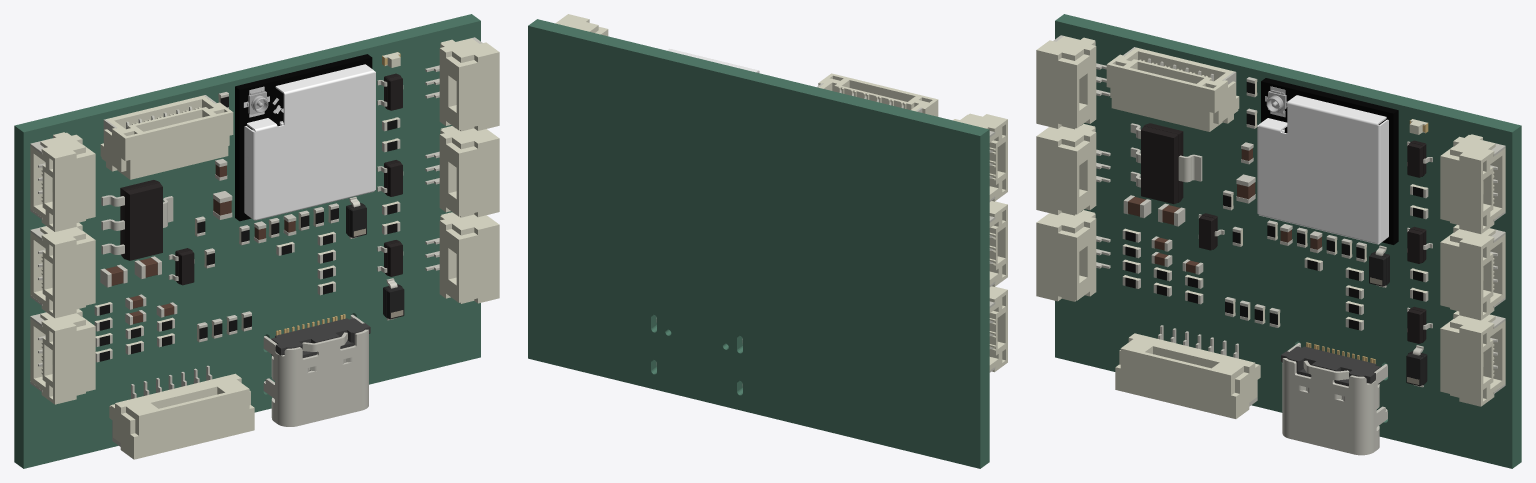
The model's file is board.glb.
3 renders of one model, left to right at view 1: azimuth 30°, elevation 25°; view 2: azimuth 150°, elevation 25°; view 3: azimuth 330°, elevation 25°, orthographic.
Parts seen in each view (by area): view 1: =>[0:1:1:26], =>[0:1:1:19]_97f24e, =>[0:1:1:23]_edfd2b, =>[0:1:1:25]_3423bf, =>[0:1:1:13]_ab31ca, =>[0:1:1:11]_2_cc42f6, =>[0:1:1:11]_3_db4419, =>[0:1:1:11]_1_5a37d0, =>[0:1:1:11]_5_8ec33b, =>[0:1:1:11]_4_f3a107, =>[0:1:1:11]_0b8cfb, =>[0:1:1:19]_99d192 (+10 smaller); view 2: =>[0:1:1:26], =>[0:1:1:25]_3423bf, =>[0:1:1:11]_2_cc42f6, =>[0:1:1:11]_5_8ec33b, =>[0:1:1:11]_1_5a37d0, =>[0:1:1:11]_3_db4419; view 3: =>[0:1:1:26], =>[0:1:1:19]_97f24e, =>[0:1:1:23]_edfd2b, =>[0:1:1:25]_3423bf, =>[0:1:1:13]_ab31ca, =>[0:1:1:11]_3_db4419, =>[0:1:1:11]_2_cc42f6, =>[0:1:1:11]_4_f3a107, =>[0:1:1:11]_0b8cfb, =>[0:1:1:11]_1_5a37d0, =>[0:1:1:11]_5_8ec33b, =>[0:1:1:19]_99d192 (+10 smaller).
Boxes of the visible parts, <box> form: =>[0:1:1:26]: <box>14,14,480,468</box>; =>[0:1:1:19]_97f24e: <box>244,64,375,220</box>; =>[0:1:1:23]_edfd2b: <box>109,373,254,459</box>; =>[0:1:1:25]_3423bf: <box>100,95,233,179</box>; =>[0:1:1:13]_ab31ca: <box>263,314,368,426</box>; =>[0:1:1:11]_2_cc42f6: <box>30,132,95,231</box>; =>[0:1:1:11]_3_db4419: <box>439,38,499,131</box>; =>[0:1:1:11]_1_5a37d0: <box>30,309,95,404</box>; =>[0:1:1:11]_5_8ec33b: <box>30,222,95,318</box>; =>[0:1:1:11]_4_f3a107: <box>439,212,499,303</box>; =>[0:1:1:11]_0b8cfb: <box>439,126,499,217</box>; =>[0:1:1:19]_99d192: <box>235,54,372,221</box>; =>[0:1:1:26]: <box>528,19,989,468</box>; =>[0:1:1:25]_3423bf: <box>818,73,938,116</box>; =>[0:1:1:11]_2_cc42f6: <box>953,113,1007,201</box>; =>[0:1:1:11]_5_8ec33b: <box>989,201,1007,286</box>; =>[0:1:1:11]_1_5a37d0: <box>989,286,1007,372</box>; =>[0:1:1:11]_3_db4419: <box>555,14,608,36</box>; =>[0:1:1:26]: <box>1055,14,1521,468</box>; =>[0:1:1:19]_97f24e: <box>1257,95,1388,244</box>; =>[0:1:1:23]_edfd2b: <box>1115,333,1260,418</box>; =>[0:1:1:25]_3423bf: <box>1106,47,1239,131</box>; =>[0:1:1:13]_ab31ca: <box>1282,343,1387,455</box>; =>[0:1:1:11]_3_db4419: <box>1440,134,1505,233</box>; =>[0:1:1:11]_2_cc42f6: <box>1036,36,1096,129</box>; =>[0:1:1:11]_4_f3a107: <box>1440,311,1505,406</box>; =>[0:1:1:11]_0b8cfb: <box>1440,225,1505,320</box>; =>[0:1:1:11]_1_5a37d0: <box>1036,210,1096,301</box>; =>[0:1:1:11]_5_8ec33b: <box>1036,124,1096,215</box>; =>[0:1:1:19]_99d192: <box>1261,78,1398,244</box>.
Size of the model in its own units: 45.5 by 32.49 by 5.89.
